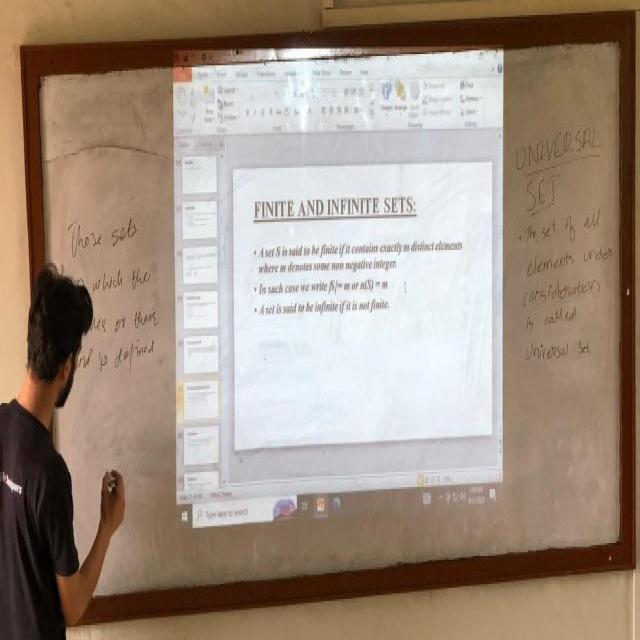Instructor: (4, 229, 124, 640)
Slide: (172, 50, 503, 534)
White-board: (34, 27, 631, 620)
